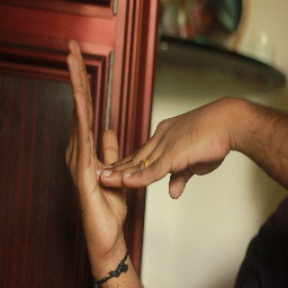Z: (59, 37, 234, 247)
